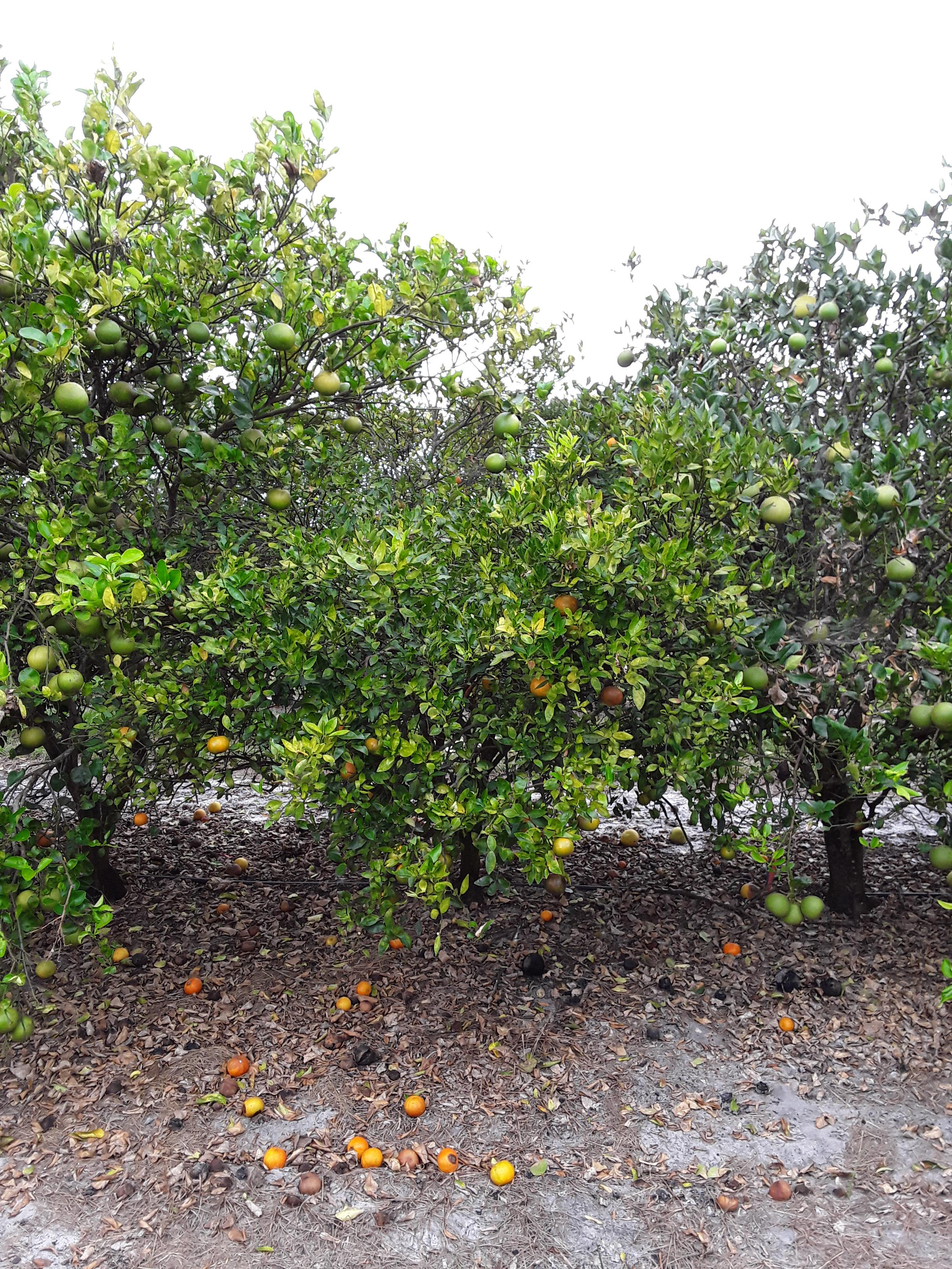fruit_on_ground: (54, 382, 89, 415), (760, 495, 793, 523), (264, 323, 297, 351), (489, 412, 523, 439), (883, 555, 917, 580), (823, 441, 857, 465), (108, 380, 137, 408), (238, 428, 270, 453), (314, 369, 342, 397), (76, 613, 105, 640), (801, 618, 831, 643), (929, 702, 952, 734), (9, 1015, 36, 1042), (67, 229, 95, 255), (907, 704, 936, 729), (0, 269, 25, 298), (873, 484, 903, 508), (58, 668, 85, 694), (742, 665, 770, 690), (800, 894, 825, 922), (790, 294, 818, 319), (94, 319, 122, 344), (53, 611, 79, 637), (553, 593, 581, 617), (108, 631, 137, 654), (39, 645, 62, 674), (163, 426, 193, 448), (766, 892, 791, 918), (84, 494, 114, 515), (40, 888, 65, 913), (114, 512, 141, 535), (0, 1005, 19, 1037), (575, 809, 602, 831), (186, 321, 213, 343), (929, 845, 952, 870), (21, 725, 47, 747), (267, 488, 294, 509), (781, 902, 804, 926), (530, 675, 555, 697), (48, 676, 70, 701), (15, 890, 40, 912), (599, 685, 625, 706), (395, 864, 418, 887), (816, 301, 840, 323), (178, 468, 203, 488), (484, 453, 507, 474), (552, 836, 575, 857), (35, 958, 58, 979), (546, 873, 567, 895), (61, 925, 84, 945), (928, 362, 949, 383), (164, 372, 185, 393), (93, 488, 116, 507), (340, 415, 364, 433), (206, 736, 231, 753), (432, 850, 453, 870), (112, 338, 133, 358), (199, 432, 218, 454), (151, 414, 172, 433), (705, 615, 726, 634), (115, 727, 136, 746), (836, 338, 857, 357), (874, 358, 896, 376), (338, 761, 358, 780), (142, 363, 163, 381), (788, 332, 807, 351), (616, 348, 635, 367), (96, 341, 116, 359), (710, 338, 728, 357), (365, 737, 382, 756), (481, 674, 497, 691), (720, 844, 736, 860), (170, 607, 187, 622), (852, 813, 865, 832), (133, 812, 150, 826), (634, 794, 651, 806), (500, 297, 514, 310), (648, 789, 661, 801), (946, 865, 952, 889), (640, 783, 653, 794), (366, 789, 376, 801), (336, 722, 345, 733), (349, 805, 357, 815)
fruit_on_tree: (486, 1159, 516, 1187), (773, 967, 802, 994), (262, 1147, 289, 1171), (435, 1148, 461, 1172), (402, 1094, 427, 1118), (522, 951, 545, 977), (226, 1054, 251, 1077), (767, 1180, 793, 1202), (353, 1044, 377, 1067), (346, 1137, 370, 1159), (300, 1172, 322, 1196), (360, 1147, 383, 1169), (242, 1096, 266, 1117), (397, 1148, 419, 1170), (822, 977, 844, 998), (668, 825, 689, 846), (37, 829, 58, 849), (189, 1162, 210, 1182), (218, 1077, 240, 1096), (717, 1193, 740, 1211), (323, 1032, 345, 1050), (620, 829, 641, 847), (183, 977, 204, 995), (742, 881, 760, 900), (721, 941, 742, 956), (754, 1078, 771, 1096), (110, 946, 129, 962), (645, 1023, 662, 1040), (658, 976, 674, 994), (387, 937, 407, 951), (335, 996, 352, 1012), (355, 981, 372, 996), (322, 934, 340, 948), (780, 1016, 794, 1033), (280, 899, 298, 912), (133, 953, 149, 967), (623, 957, 640, 970), (233, 858, 251, 870), (192, 808, 207, 822), (541, 908, 555, 923), (208, 801, 224, 814), (216, 903, 231, 916), (476, 942, 492, 954), (226, 865, 243, 876), (239, 940, 256, 951), (713, 991, 728, 1002), (361, 999, 372, 1014), (174, 954, 187, 966), (246, 925, 260, 936), (206, 989, 220, 1000), (179, 816, 192, 826), (190, 839, 204, 848), (607, 869, 621, 878), (599, 834, 611, 844), (617, 861, 626, 870), (171, 837, 182, 844), (182, 803, 192, 810)
